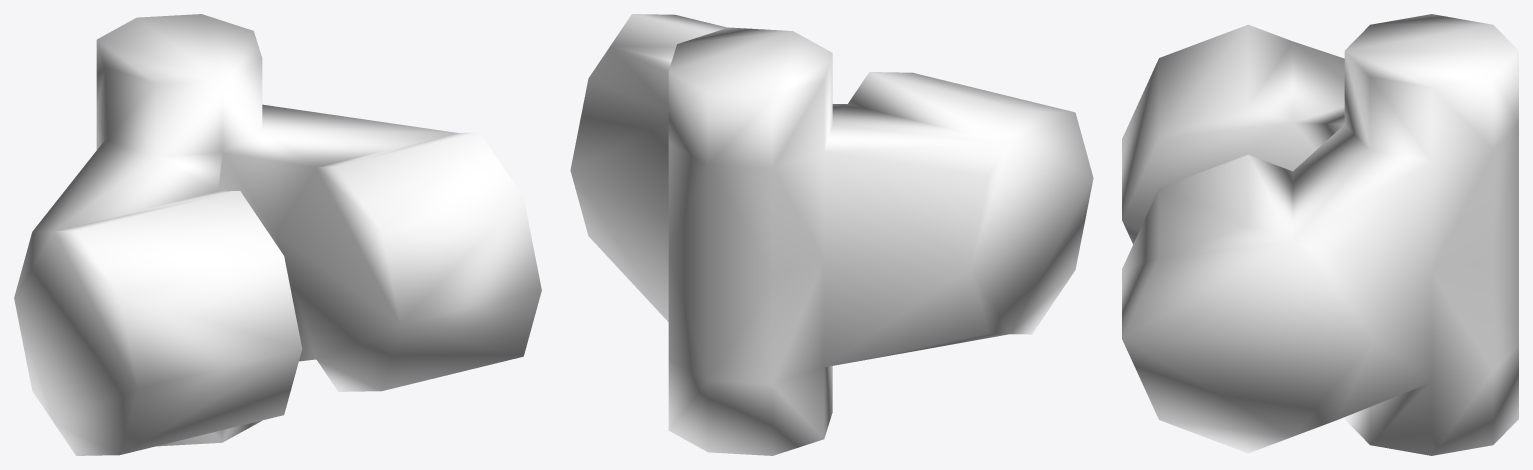
The model's file is torsopitch.obj.
3 renders of one model, left to right at view 1: azimuth 30°, elevation 25°; view 2: azimuth 150°, elevation 25°; view 3: azimuth 270°, elevation 25°, orthographic. The views are drawn at different scales.
Bounding box in the file's own units: 0.0525 × 0.045 × 0.0439.
1 material, 1 textured.
